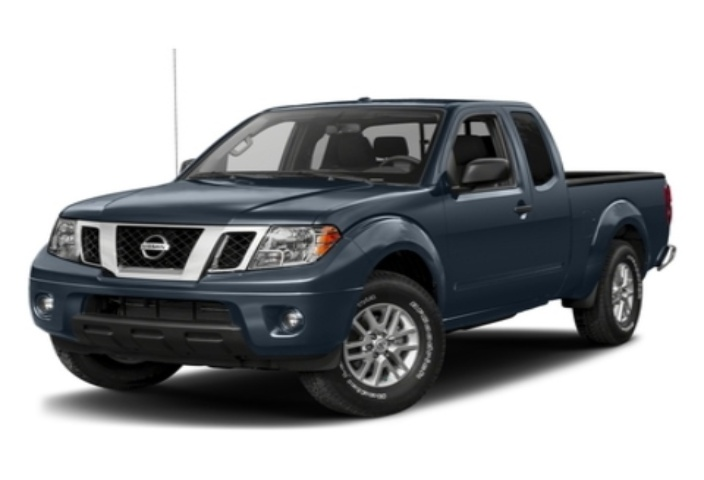camper: (11, 85, 675, 431)
